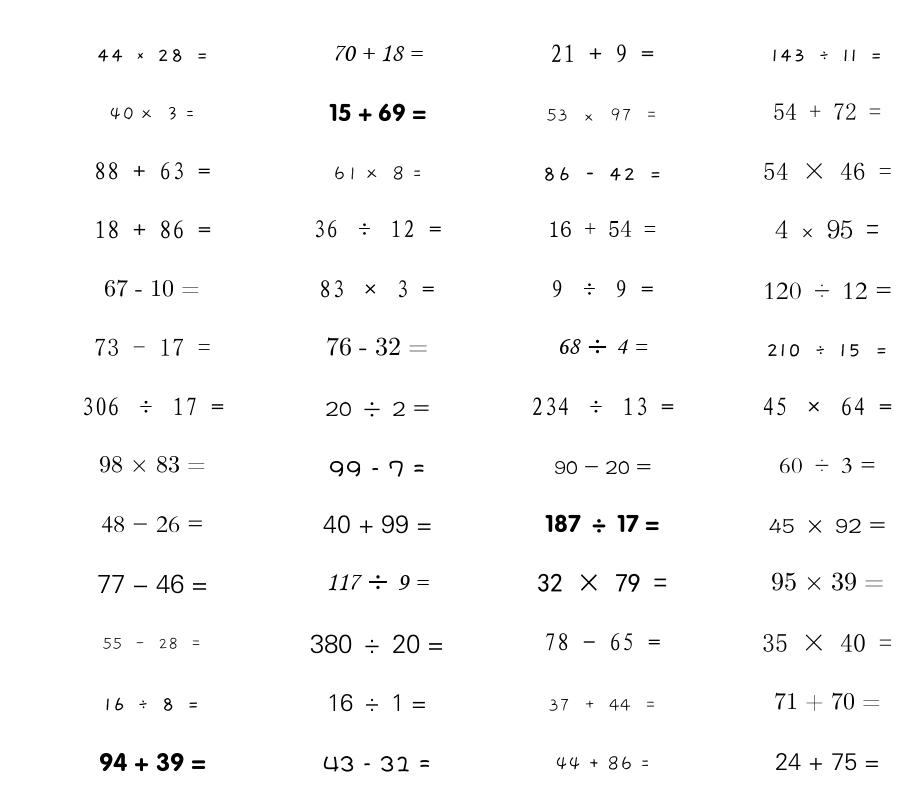MQ: (81, 397, 224, 416), (531, 397, 674, 416), (310, 634, 444, 654), (762, 397, 892, 416), (537, 573, 667, 592), (762, 634, 892, 652), (763, 162, 892, 180), (313, 220, 442, 238), (763, 282, 892, 300), (94, 220, 211, 239), (97, 574, 208, 594), (545, 514, 659, 533), (771, 572, 884, 591), (99, 752, 206, 772), (94, 162, 211, 180), (94, 338, 211, 356), (544, 633, 661, 651), (319, 280, 435, 298), (775, 219, 879, 239), (323, 515, 432, 534), (774, 692, 881, 711), (550, 44, 654, 63), (326, 337, 428, 356), (99, 455, 206, 473), (327, 693, 427, 712), (775, 753, 880, 771), (769, 518, 886, 534), (551, 280, 654, 298), (329, 103, 426, 122), (773, 103, 881, 120), (548, 220, 656, 237), (101, 516, 204, 533), (326, 574, 429, 591), (104, 279, 200, 297), (323, 756, 431, 772), (542, 167, 662, 181), (325, 401, 430, 417), (779, 457, 876, 474), (329, 460, 425, 477), (766, 344, 888, 357), (546, 108, 658, 122), (332, 45, 423, 62), (96, 49, 209, 62), (771, 49, 883, 62), (555, 756, 650, 771), (548, 699, 657, 712), (557, 339, 648, 354), (554, 460, 651, 474), (104, 697, 200, 711), (333, 166, 422, 181), (102, 637, 202, 650), (109, 106, 195, 121)
